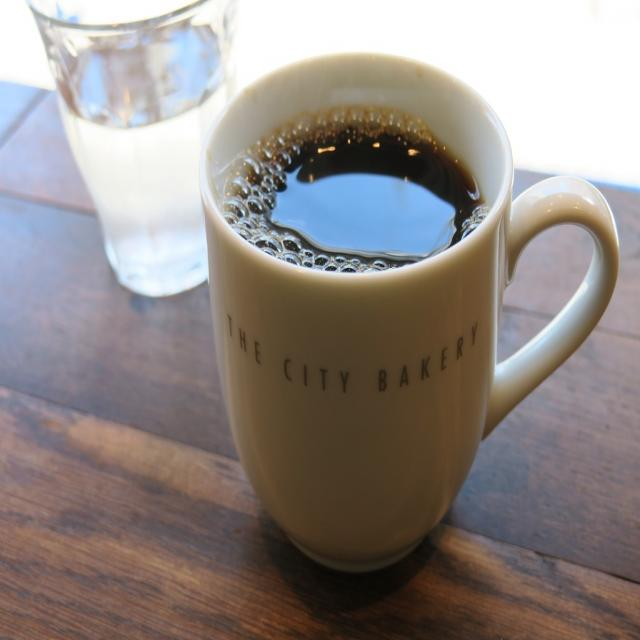Coffee: (228, 111, 494, 270)
Tea: (220, 109, 489, 272)
